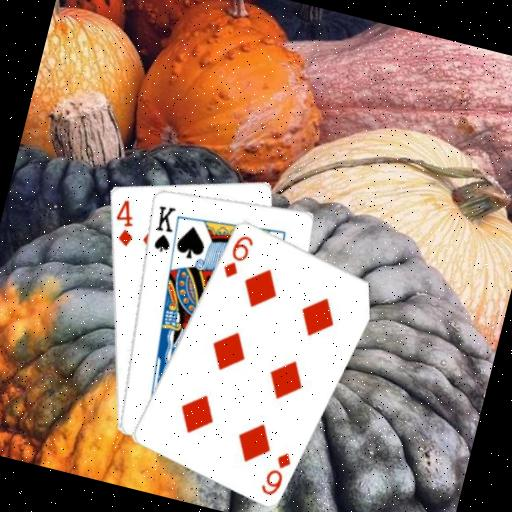4D: (106, 194, 143, 249)
6D: (218, 229, 256, 284), (257, 445, 295, 500)
KS: (145, 200, 181, 255)
